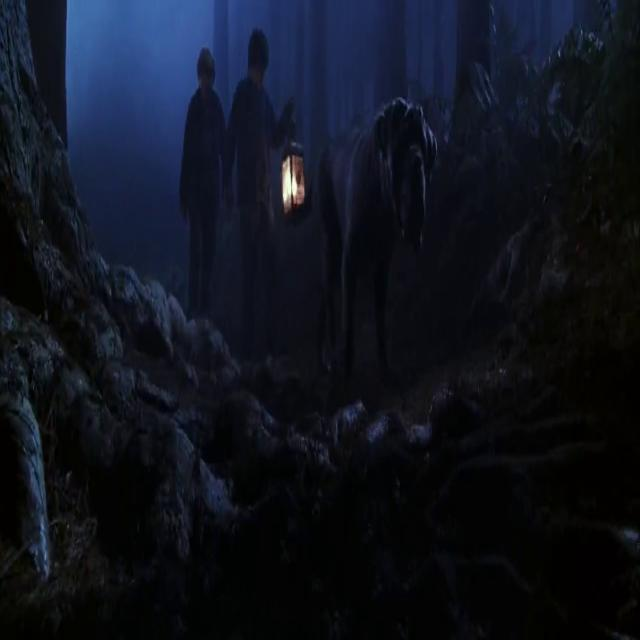People: (180, 22, 231, 333), (245, 17, 287, 304)
dog: (318, 72, 449, 382)
